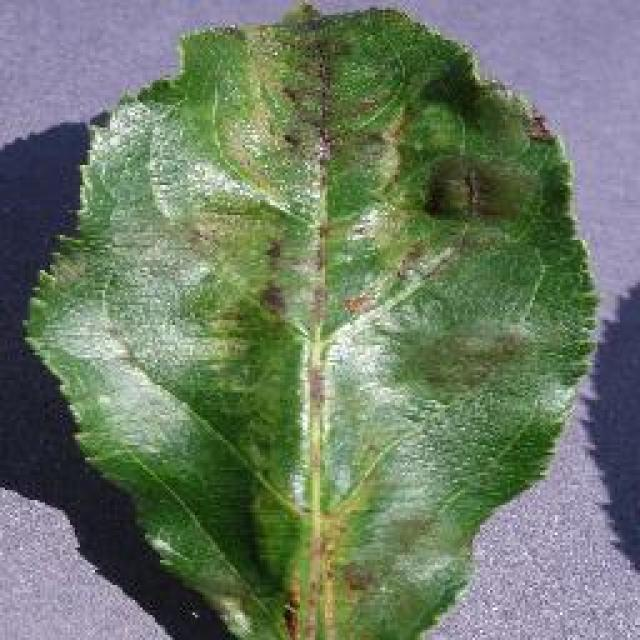apple scab disease: (20, 0, 602, 638)
